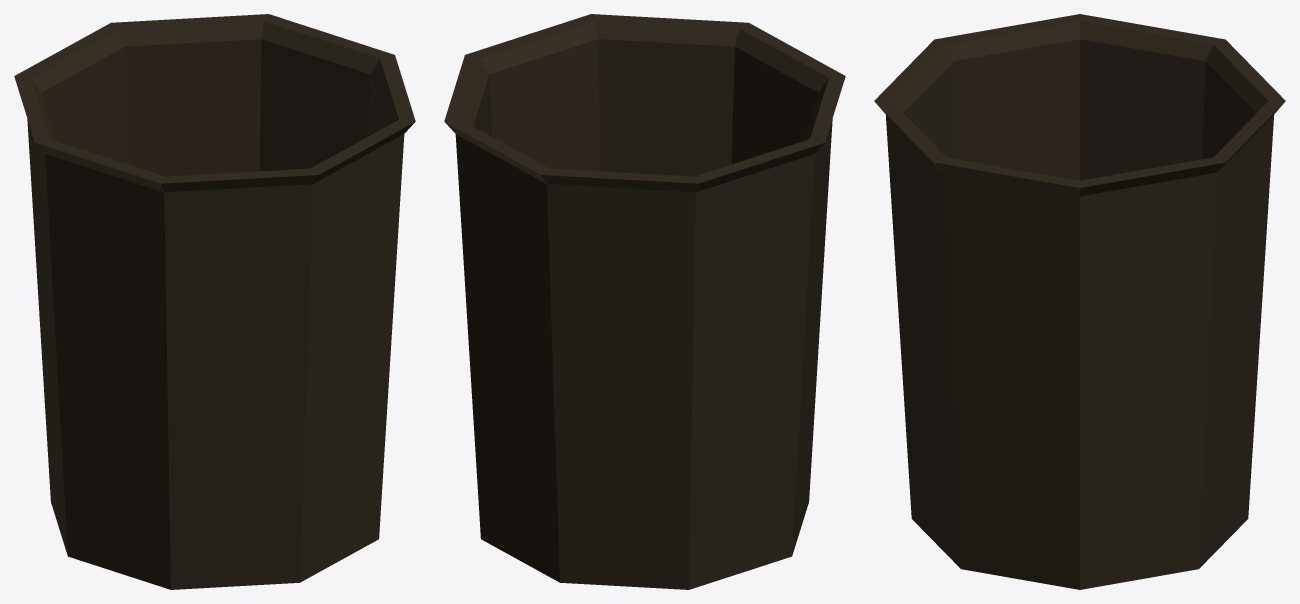
Rendered from Trash bin.fbx.
3 views of the same model, side by side, from view 1: azimuth 30°, elevation 25°; view 2: azimuth 150°, elevation 25°; view 3: azimuth 270°, elevation 25° (orthographic).
Parts seen in each view (by area): view 1: Trash bin; view 2: Trash bin; view 3: Trash bin.
Boxes of the visible parts, <box> form: Trash bin: <box>14,14,415,589</box>; Trash bin: <box>444,14,845,589</box>; Trash bin: <box>874,14,1285,589</box>.
Bounding box in the file's own units: 42.1 × 47.12 × 42.1.
